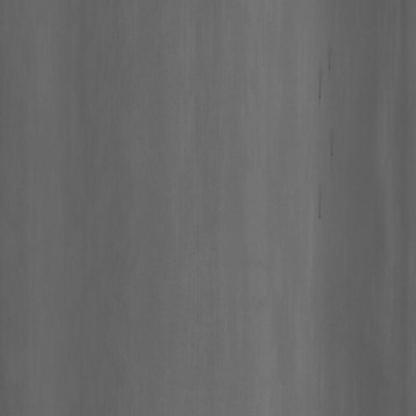water_spot: (306, 44, 339, 236)
